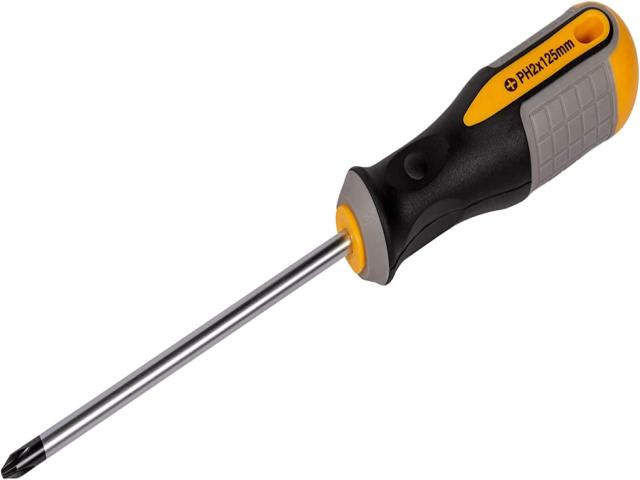Screwdriver: (2, 0, 639, 480)
